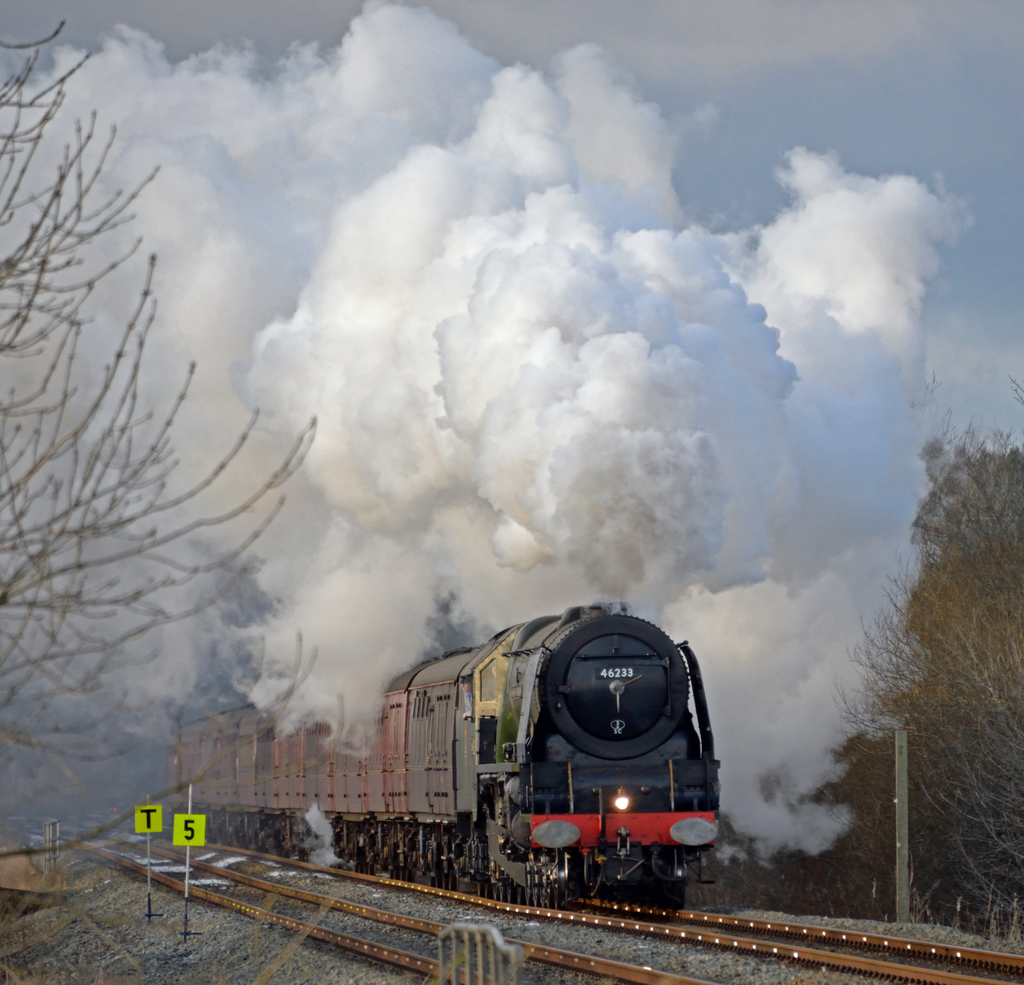train: (165, 598, 721, 915)
